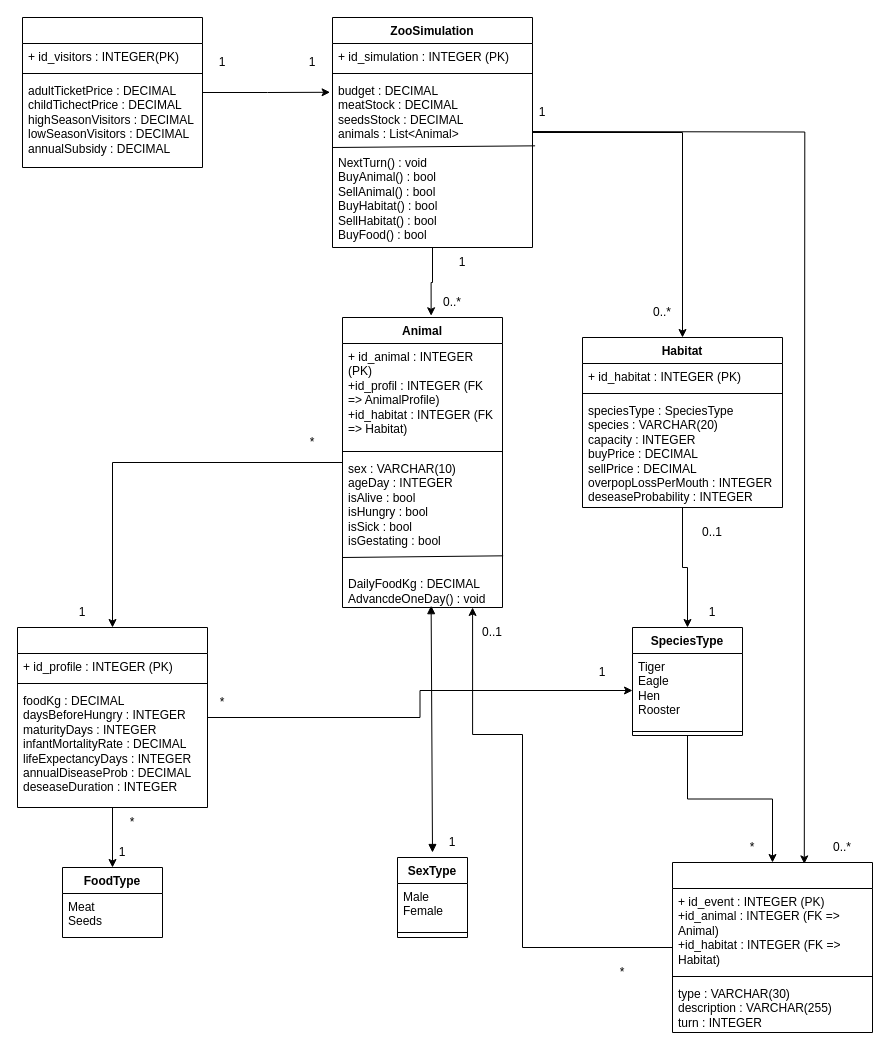
This 890x1053 diagram has some shape labels left out. The shapes that lost their labels are listed below. From the top down, each one's box as (x1, y1, x2, y2) in pixels, then its label:
(22, 16, 202, 168): VisitorManagement
(16, 626, 208, 808): AnimalProfile
(672, 862, 872, 1032): ZooEvent
